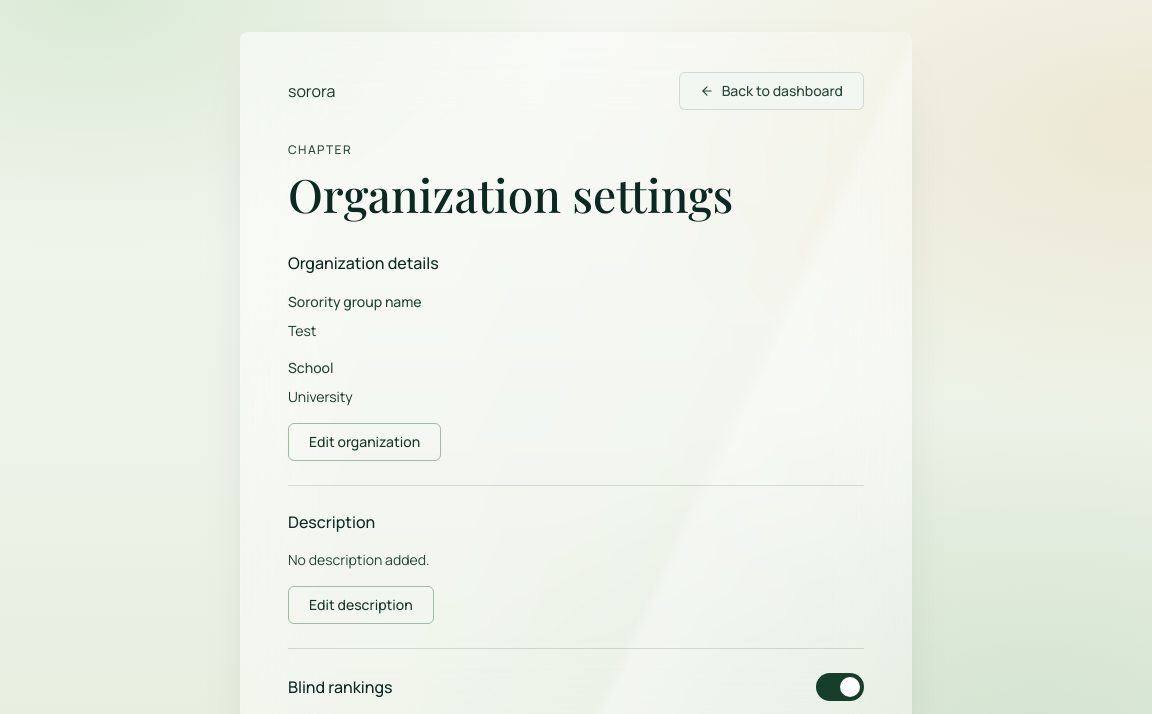
it: organization saves as text and cancelling discards draft edits
This screenshot has width=1152, height=714.
Click the button "Edit organization": (365, 442) [288,423,441,461]
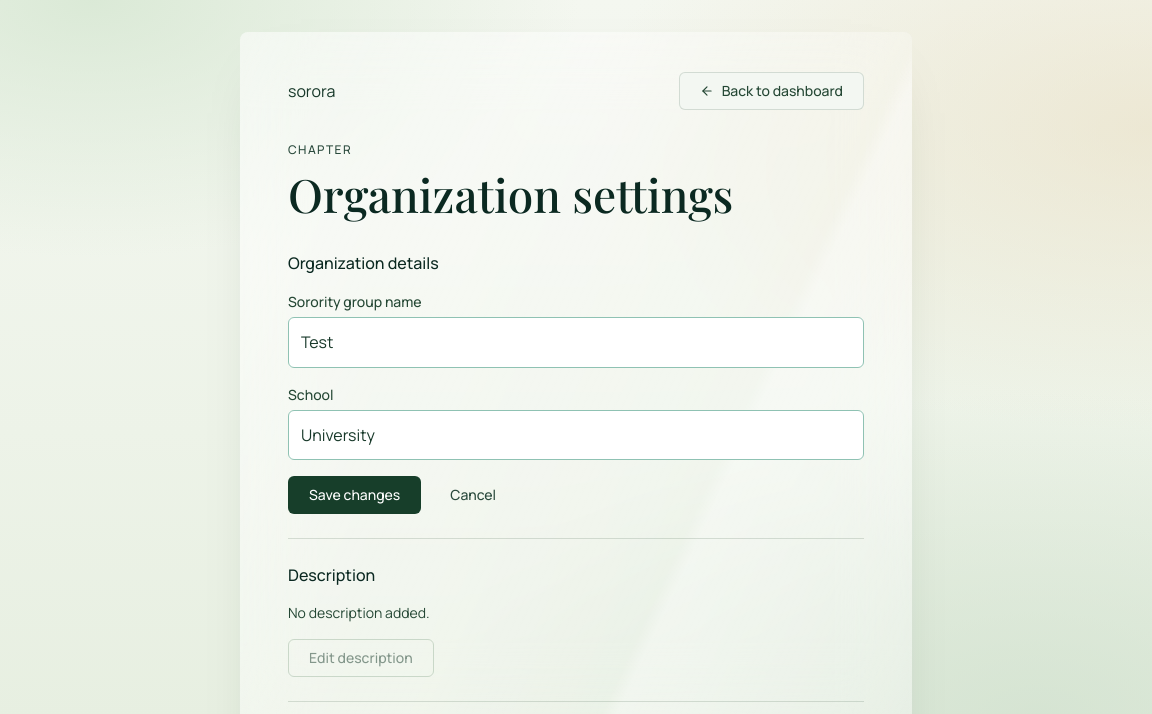
Replace the text in the field with placeholder "e.g. Alpha Beta Chapter" with "Saved Chapter": (576, 342) [288,317,864,368]
Click the button "Save changes": (355, 495) [288,476,421,514]
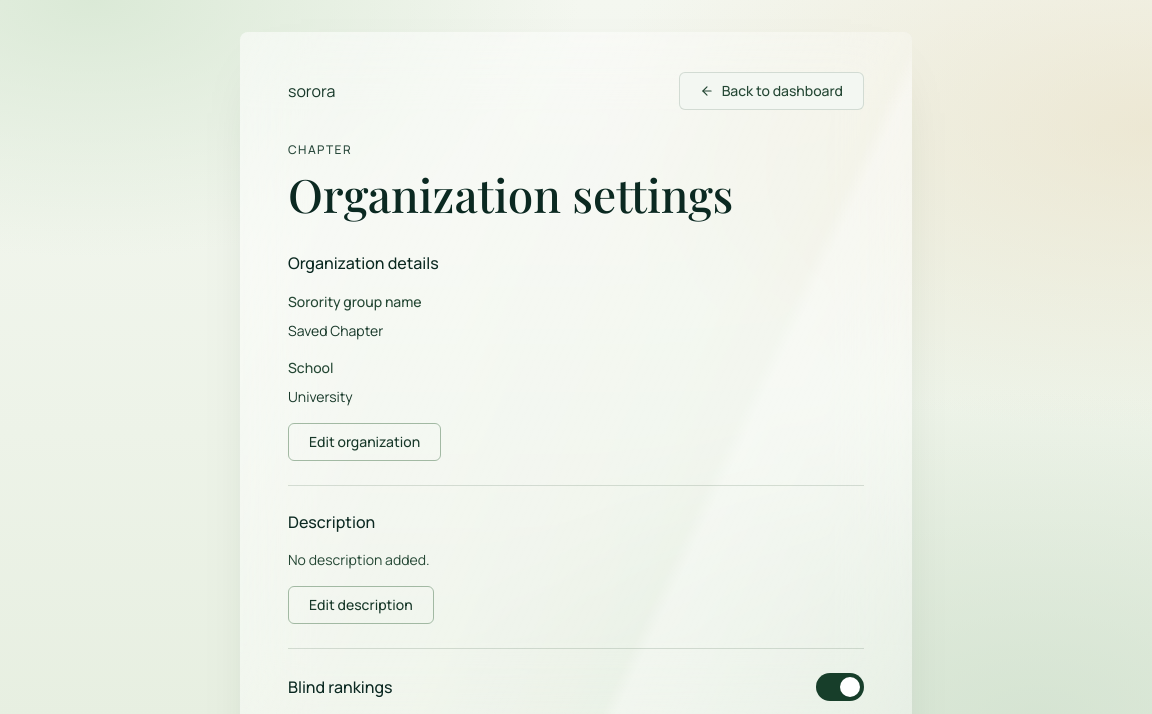
Check: the field is gone
Check: the text "Saved Chapter" is shown, box [288,321,383,340]
Click the button "Edit organization": (365, 442) [288,423,441,461]
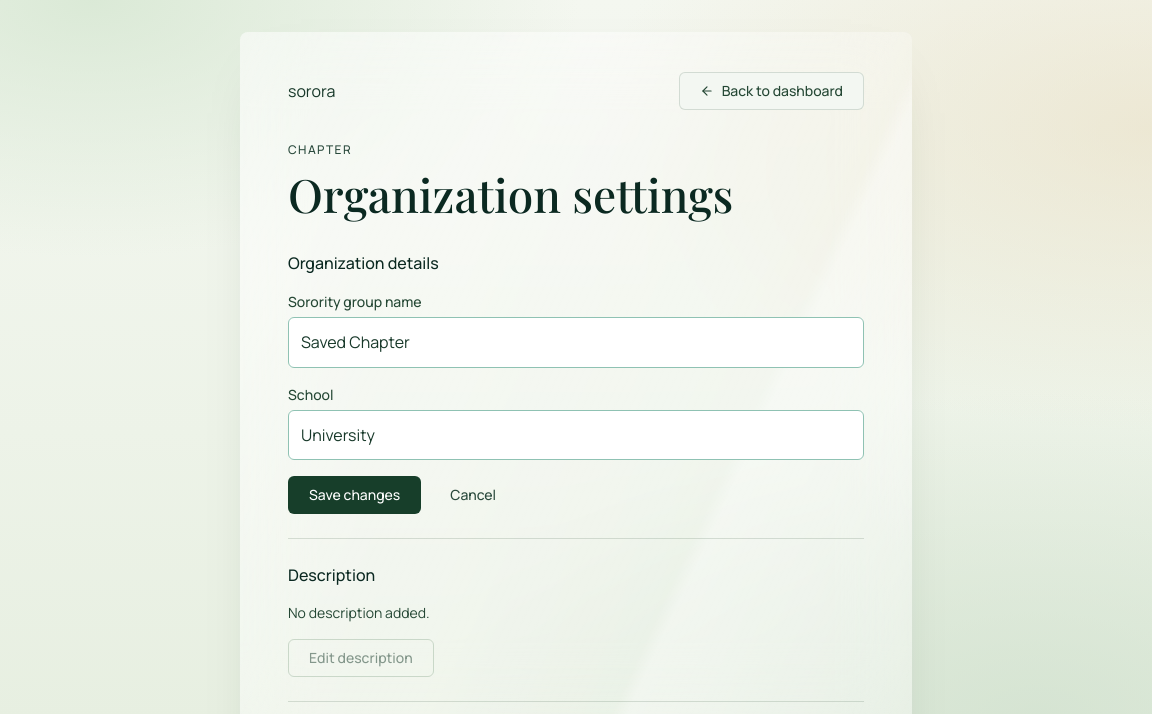
Replace the text in the field with placeholder "e.g. Alpha Beta Chapter" with "Unsaved draft": (576, 342) [288,317,864,368]
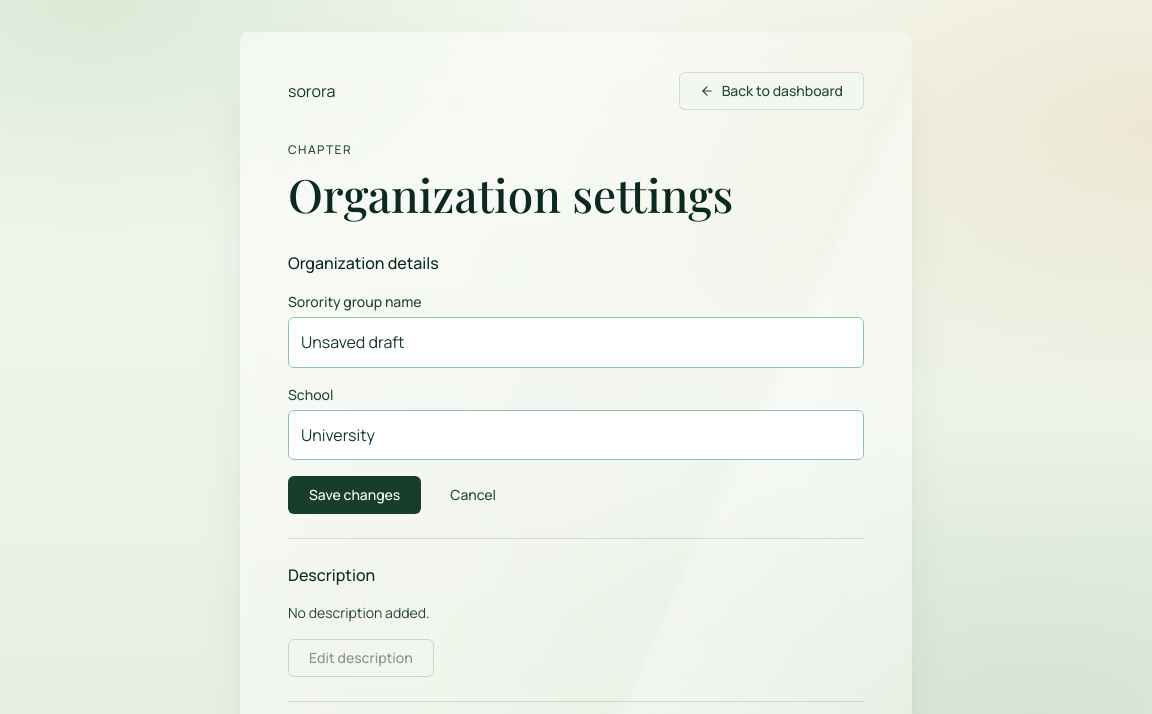
Click the button "Cancel": (473, 495) [429,476,517,514]
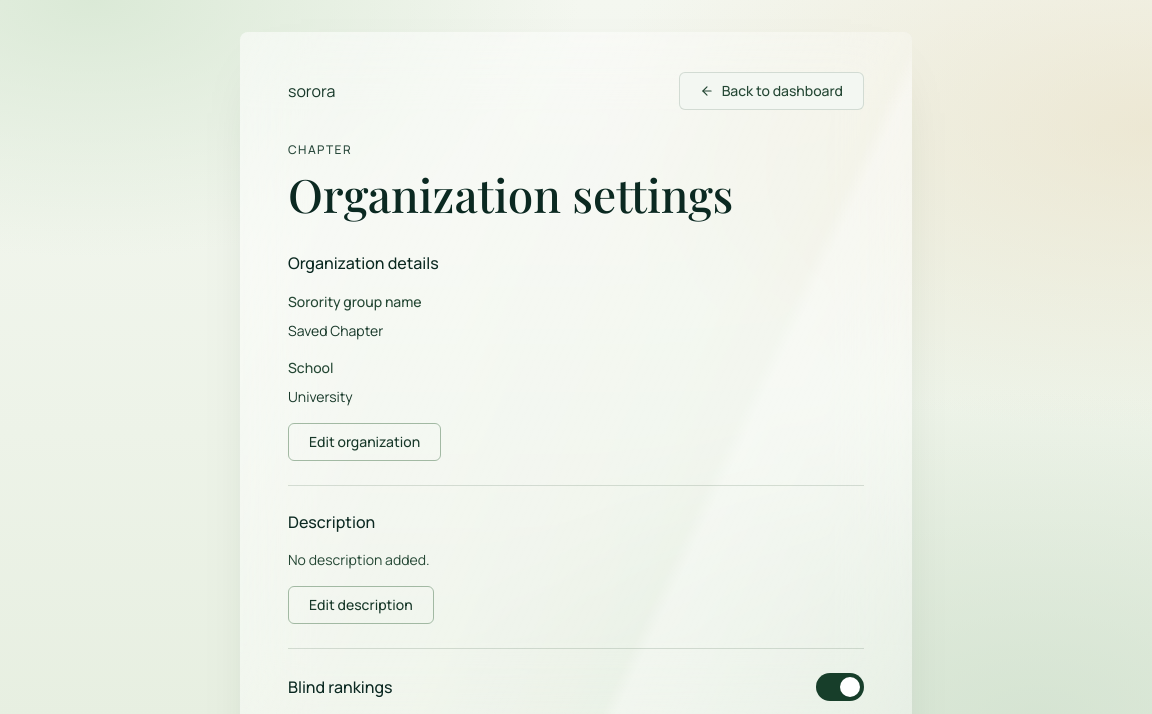
Check: the text "Unsaved draft" is not shown
Click the button "Edit organization": (365, 442) [288,423,441,461]
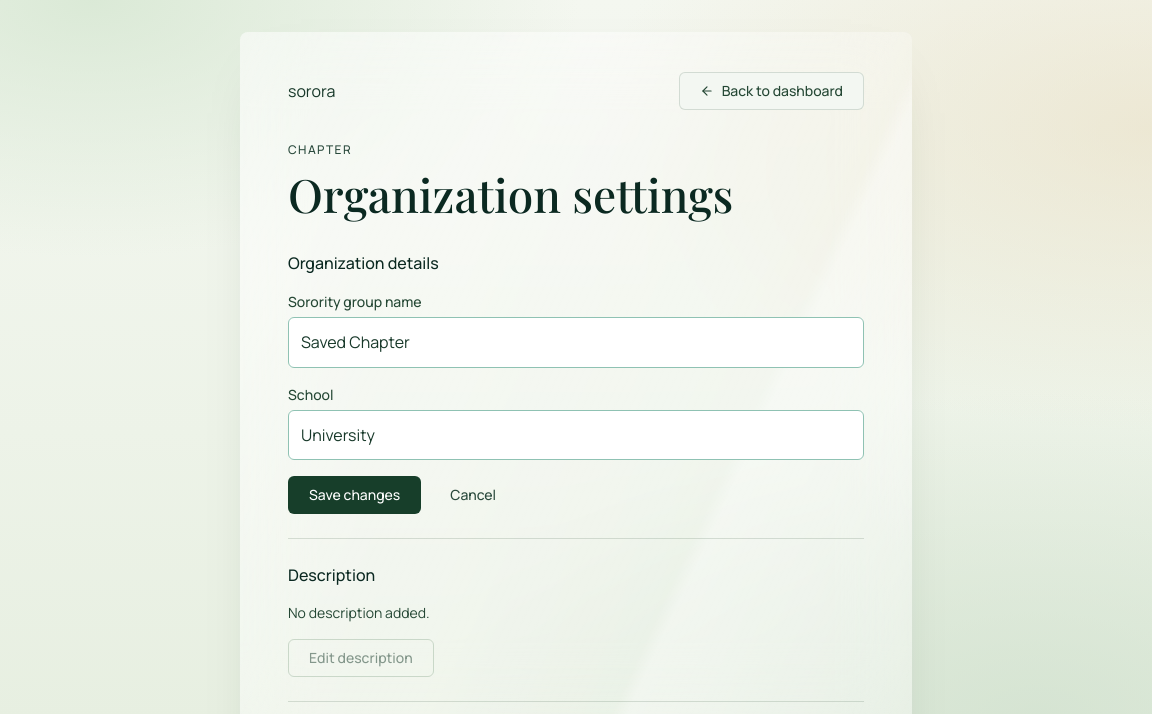
Check: the field with placeholder "e.g. Alpha Beta Chapter" holds "Saved Chapter", box [288,317,864,368]
